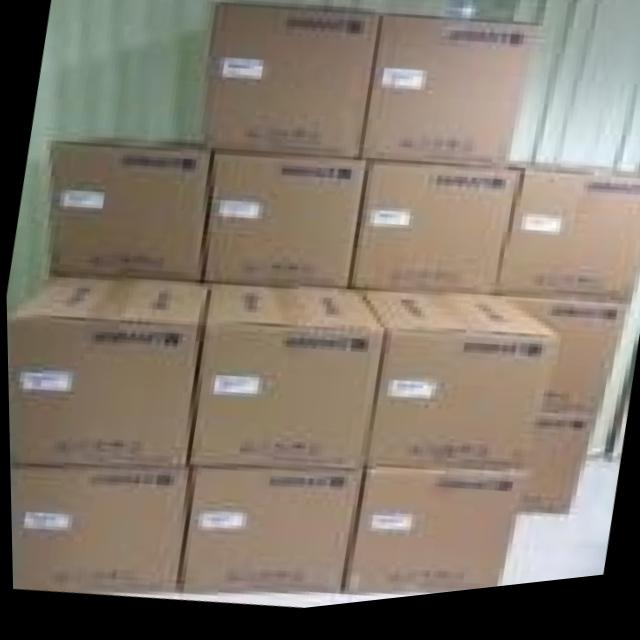box: (349, 297, 558, 484), (6, 277, 206, 471), (187, 288, 381, 477), (201, 6, 383, 169), (361, 21, 542, 178), (176, 471, 359, 598), (8, 465, 186, 595), (46, 139, 204, 284), (341, 477, 520, 603), (203, 159, 368, 294), (488, 173, 640, 319), (349, 172, 515, 303), (495, 307, 624, 433), (518, 430, 593, 528)
